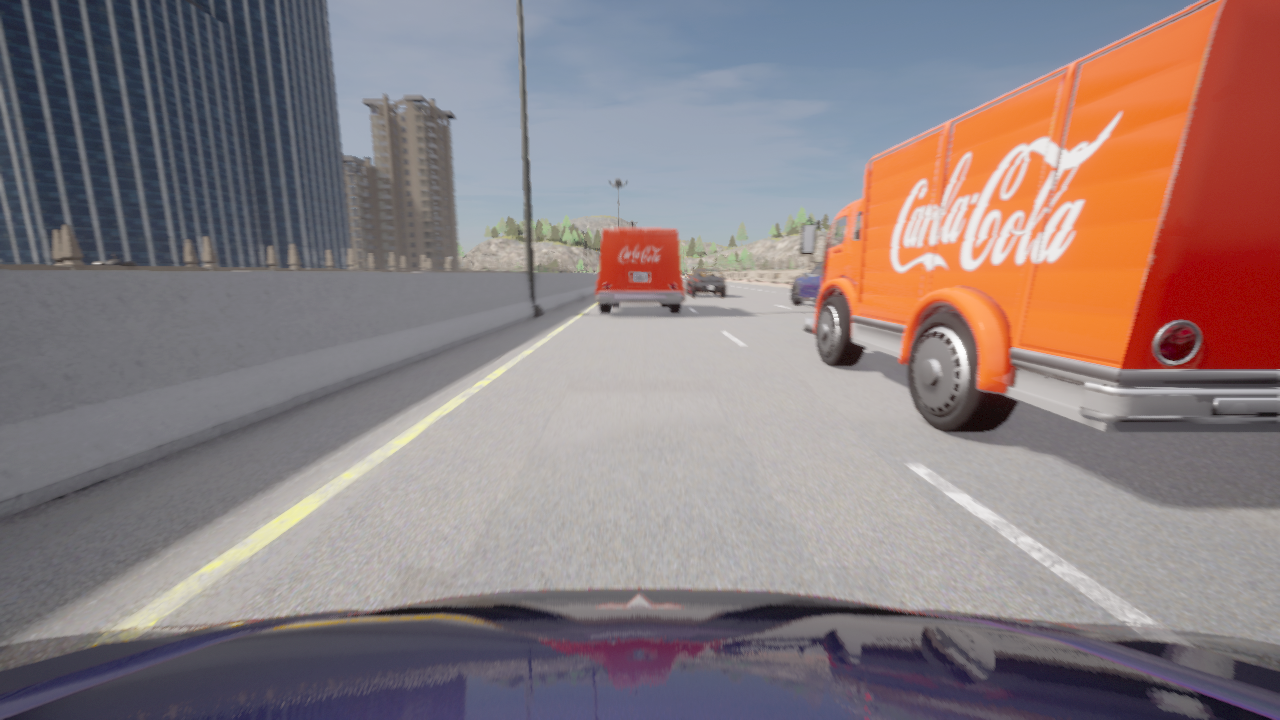cyclist: (800, 0, 1279, 432), (0, 588, 1279, 719), (596, 228, 684, 312), (791, 263, 822, 304), (686, 268, 725, 296)
